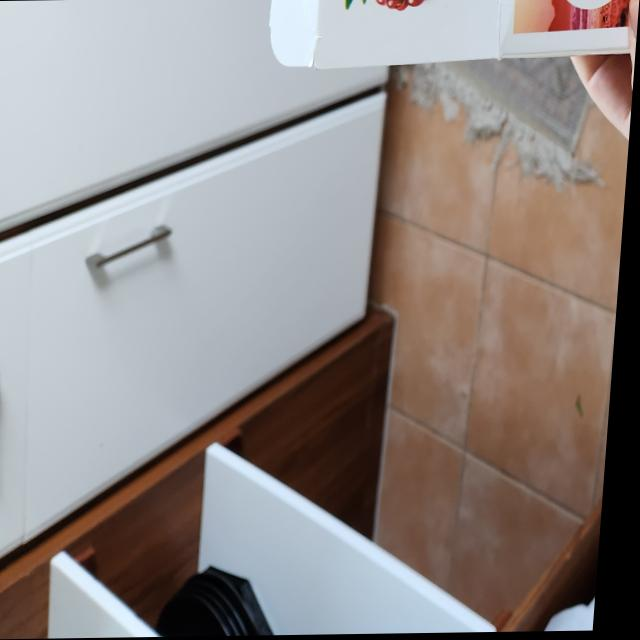muesli bars: (266, 0, 640, 65)
